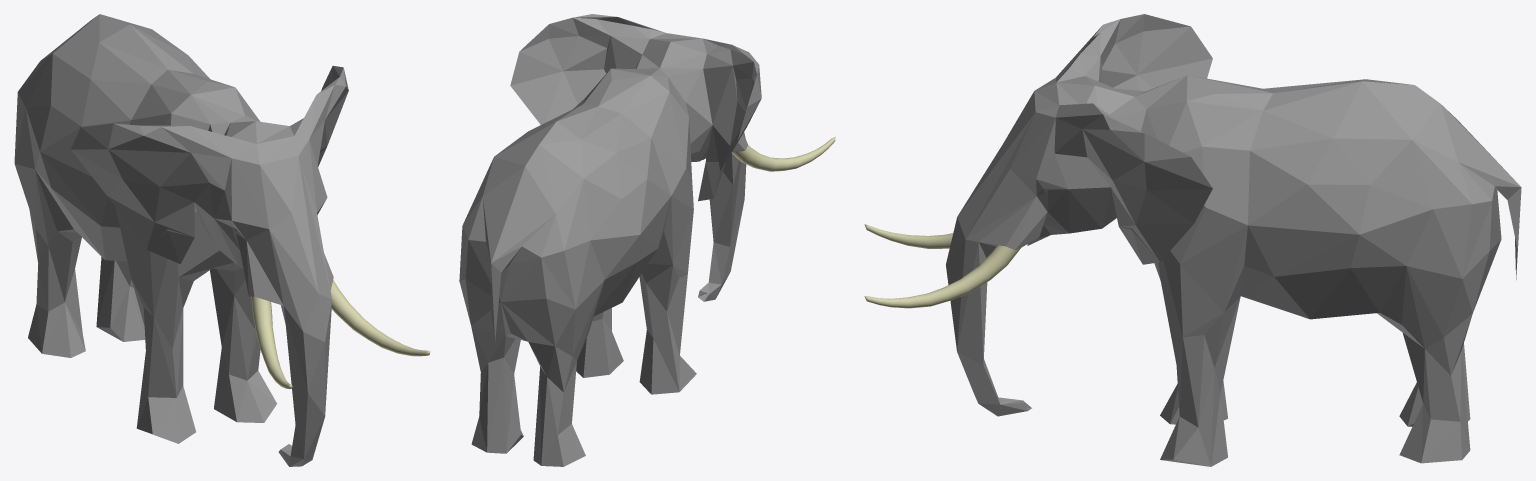
The model's file is Elephant.gltf.
3 views of the same model, side by side, from view 1: azimuth 30°, elevation 25°; view 2: azimuth 150°, elevation 25°; view 3: azimuth 270°, elevation 25° (orthographic). The views are drawn at different scales.
Visible parts, largest first — view 1: node-0; view 2: node-0; view 3: node-0.
Boxes of the visible parts, bbox=[...] form: node-0: bbox=[14, 14, 430, 466]; node-0: bbox=[459, 14, 835, 466]; node-0: bbox=[864, 14, 1521, 466].
Size of the model in its own units: 5.33 by 7.02 by 11.35.
